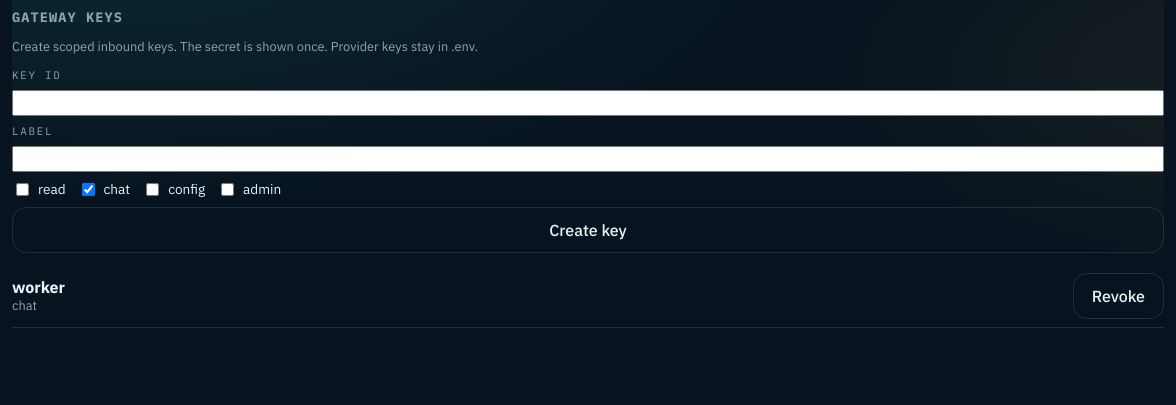
Test case: AdminKeysPanel › lists keys and creates a secret once
Check: the text "worker" is shown, box [12,277,65,297]
Type "agent" into the field labelled "Key id".
click(588, 103); type("agent")  # box [12,90,1164,116]
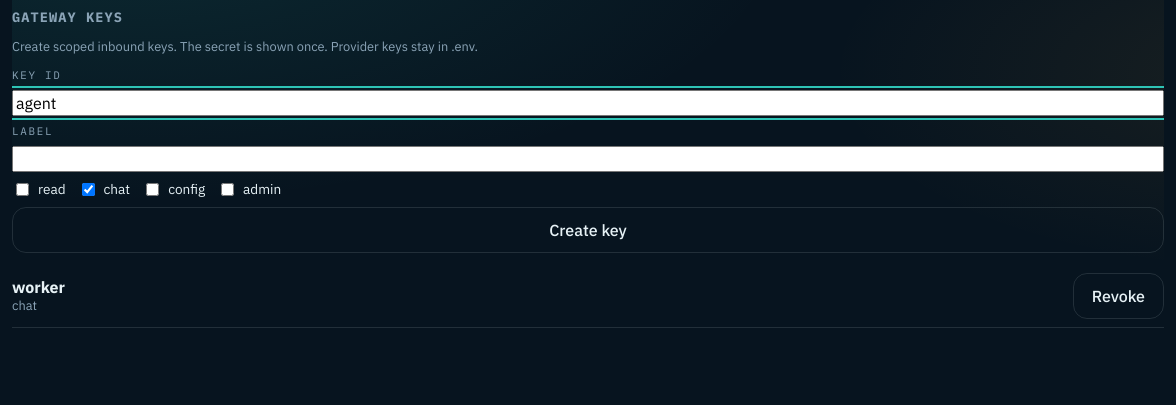
Type "worker bot" into the field labelled "Label".
click(588, 159); type("worker bot")  # box [12,146,1164,172]
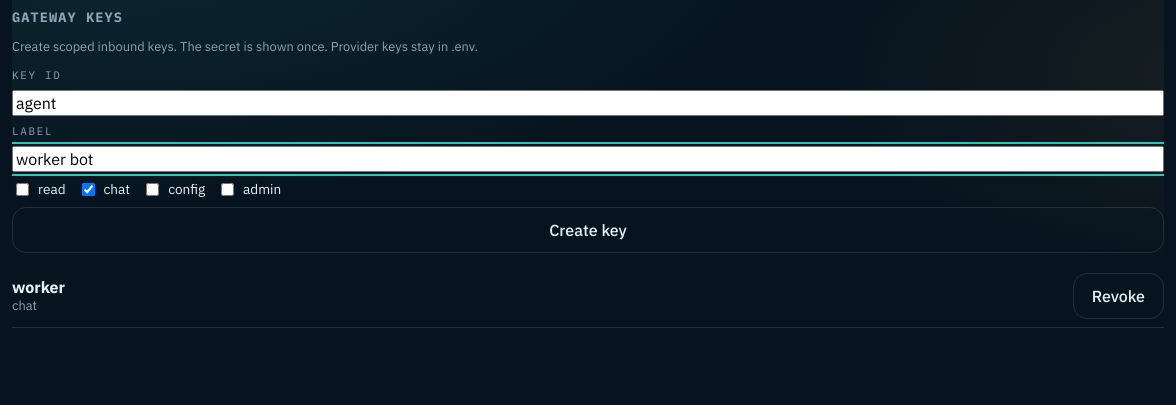
Click the button "Create key".
click(588, 230)  # box [12,207,1164,253]
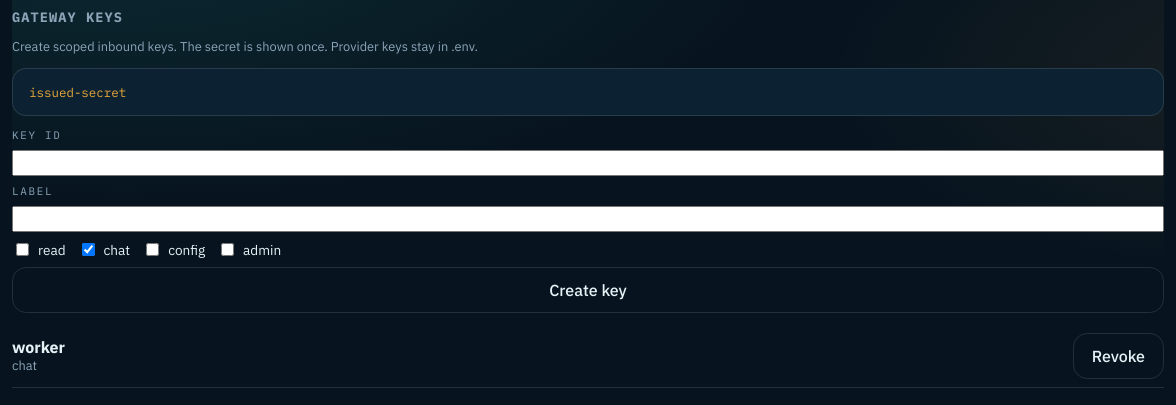
Check: the text with test id "issued-secret" reads "issued-secret", box [29,84,126,100]
